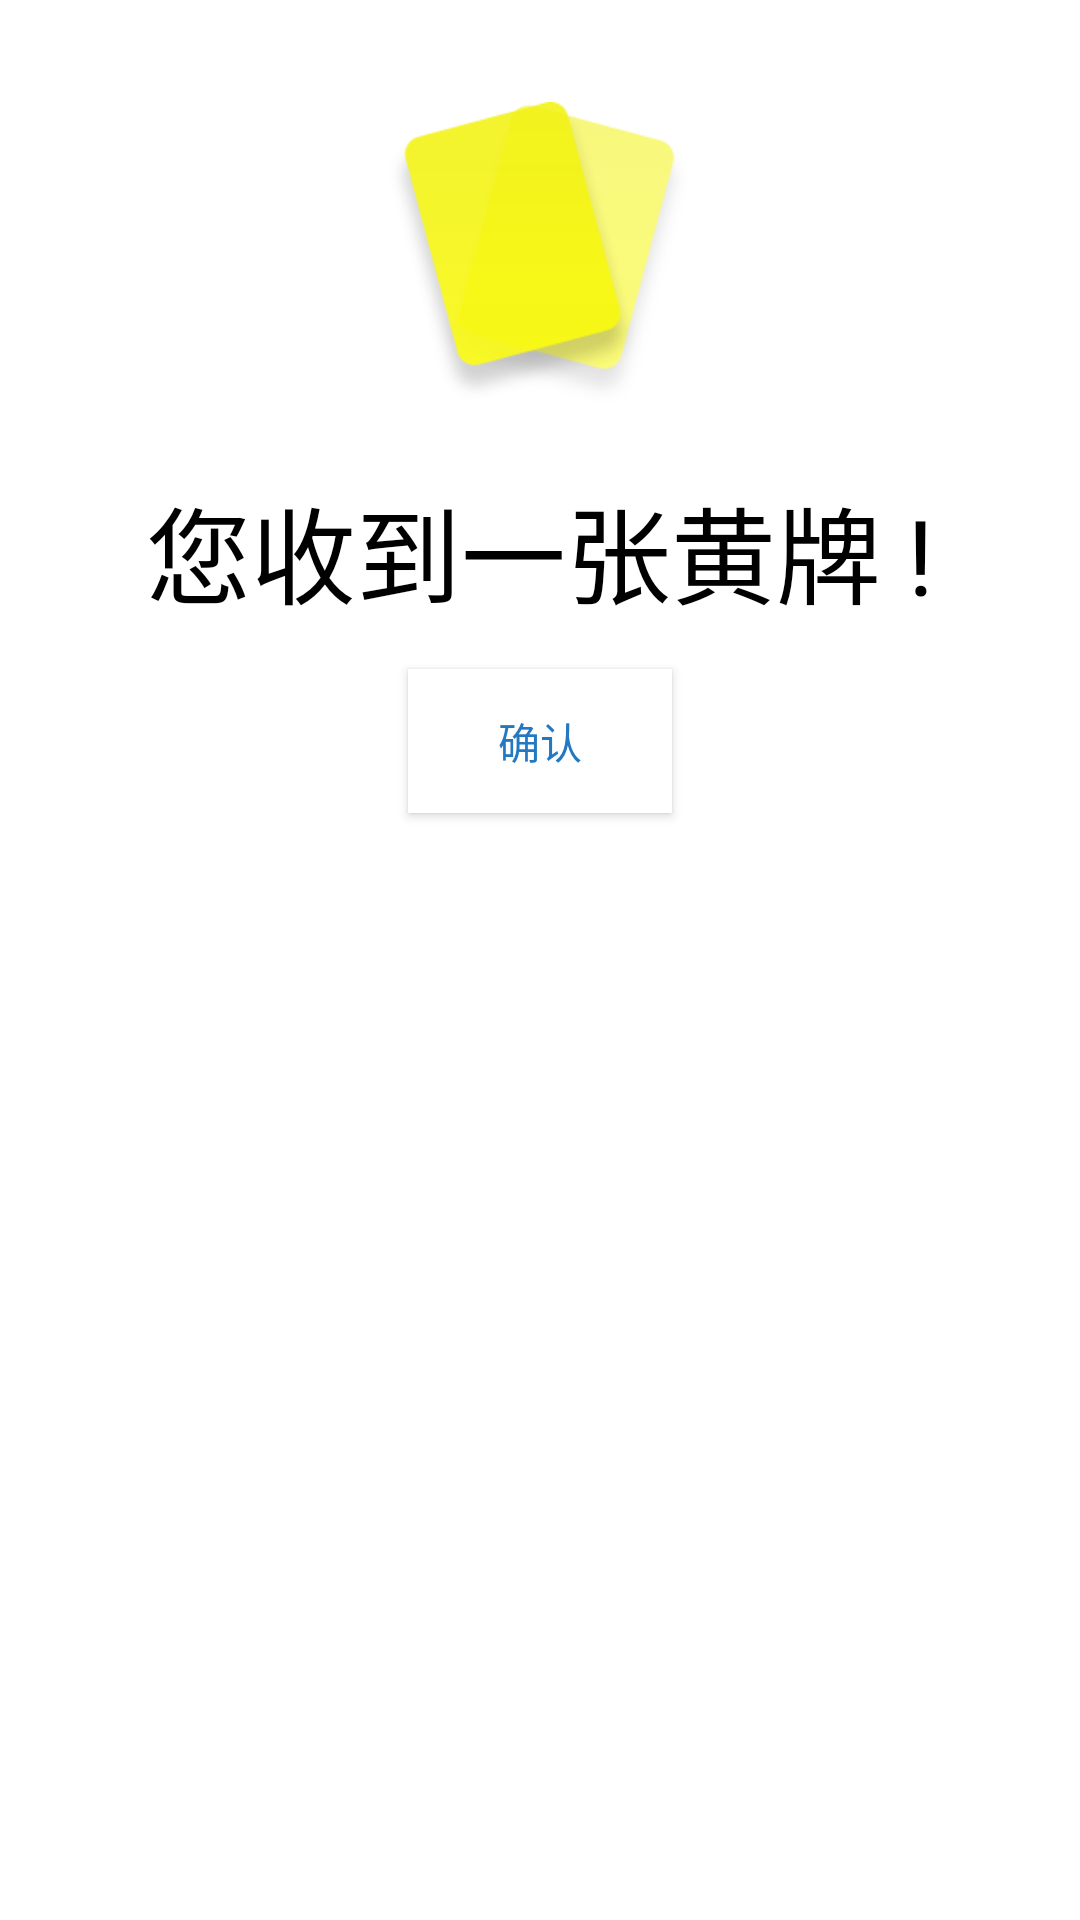

Where to tap for icons on this 1080×1920 app screen, as (x,y):
card: (539,243)
